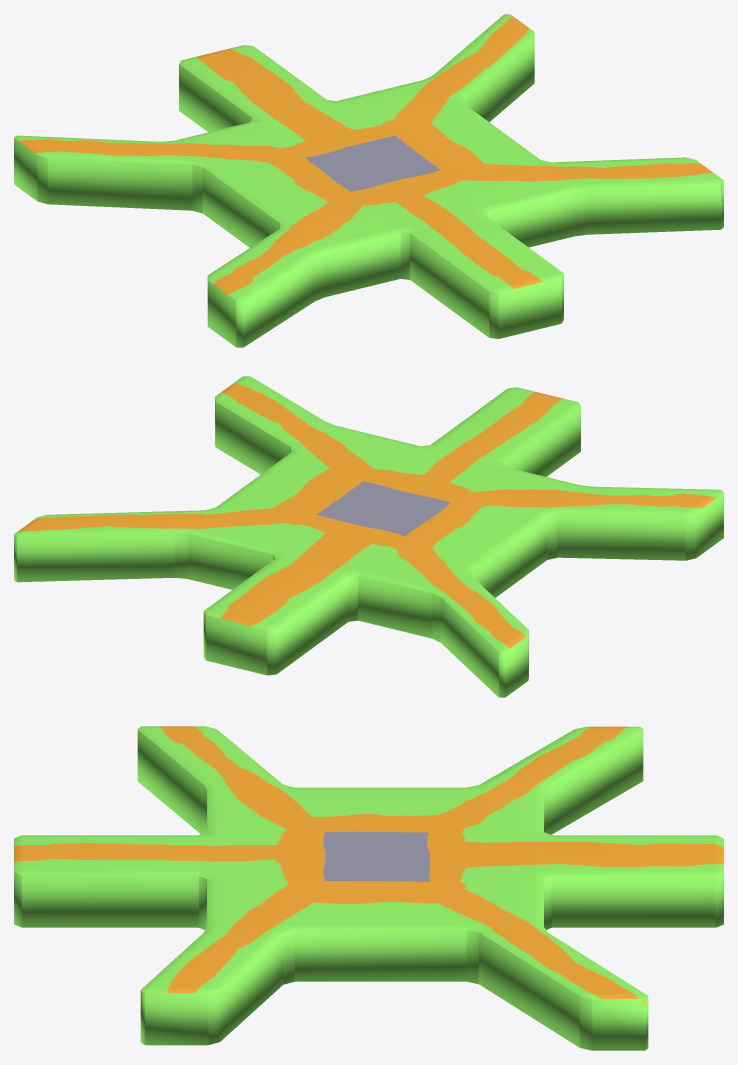
The model's file is Center.fbx.
3 views of the same model, one above another, from view 1: azimuth 30°, elevation 25°; view 2: azimuth 150°, elevation 25°; view 3: azimuth 270°, elevation 25° (orthographic). The views are drawn at different scales.
Parts seen in each view (by area): view 1: Cube; view 2: Cube; view 3: Cube.
Part boxes in pixels (box(x1,y1,x2,y2)): Cube: box(14, 14, 723, 347); Cube: box(14, 376, 723, 697); Cube: box(14, 726, 723, 1050).
Size of the model in its own units: 19892 by 1856 by 21895.
1 material, 1 textured.
